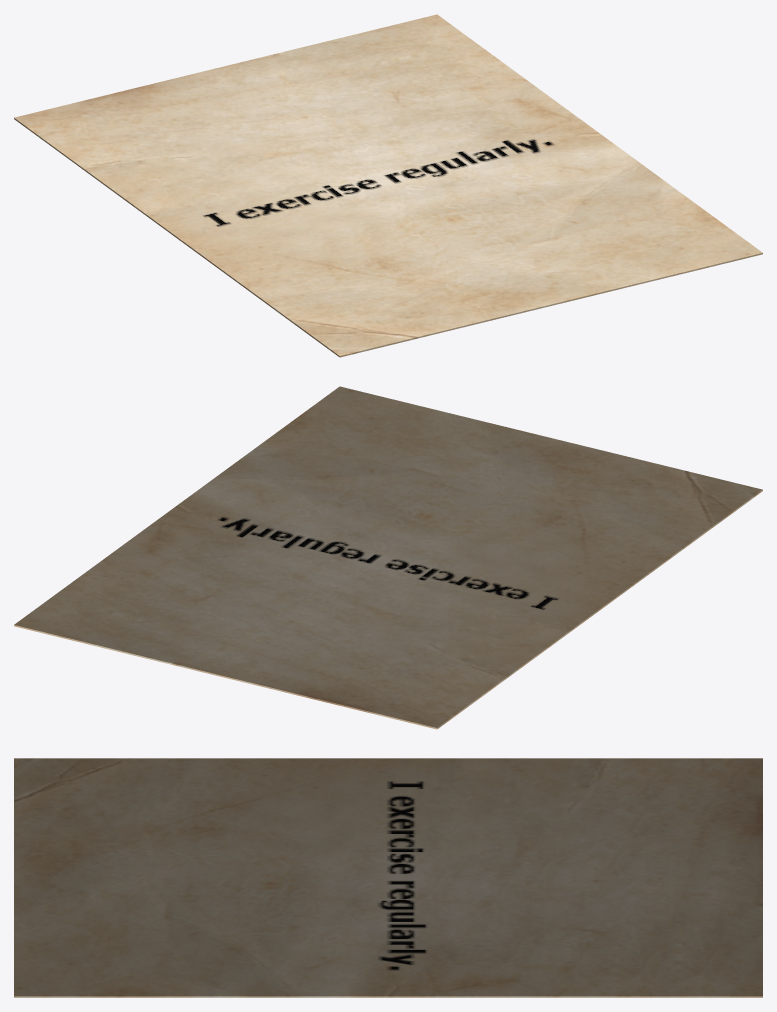
Rendered from PaperToDo_004.FBX.
3 views of the same model, one above another, from view 1: azimuth 30°, elevation 25°; view 2: azimuth 150°, elevation 25°; view 3: azimuth 270°, elevation 25° (orthographic). The views are drawn at different scales.
Parts seen in each view (by area): view 1: PaperToDo_004; view 2: PaperToDo_004; view 3: PaperToDo_004.
Boxes of the visible parts, x1,y1,x2,y2 form: PaperToDo_004: (14,14,762,357); PaperToDo_004: (14,386,762,729); PaperToDo_004: (14,758,762,997).
Bounding box in the file's own units: 30 × 0.1 × 40.
